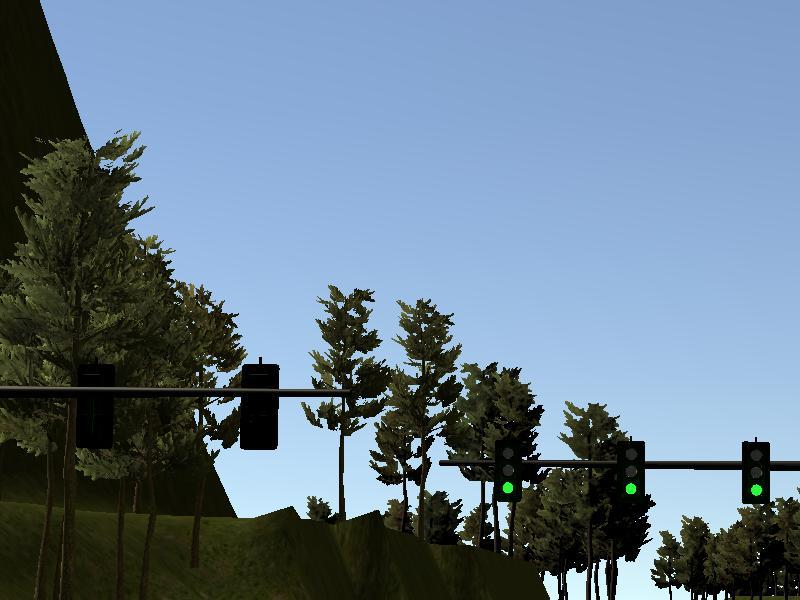Green: (739, 441, 769, 505), (618, 442, 645, 500), (499, 440, 521, 500)
